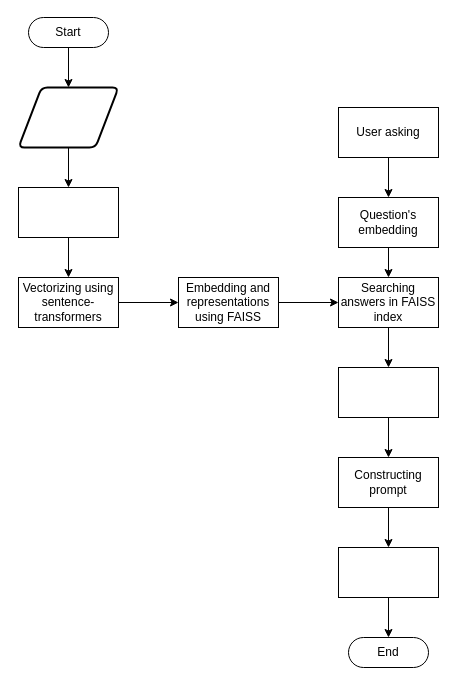
This 456x685 diagram has some shape labels left out. Here are the shapes that lost their labels. From the top down, the centre of each, then its label:
pixel 68 117: PDF Files
pixel 68 212: Input extracting and chuncking
pixel 388 392: Retrieve top-k results
pixel 388 572: LLM generating the answer
